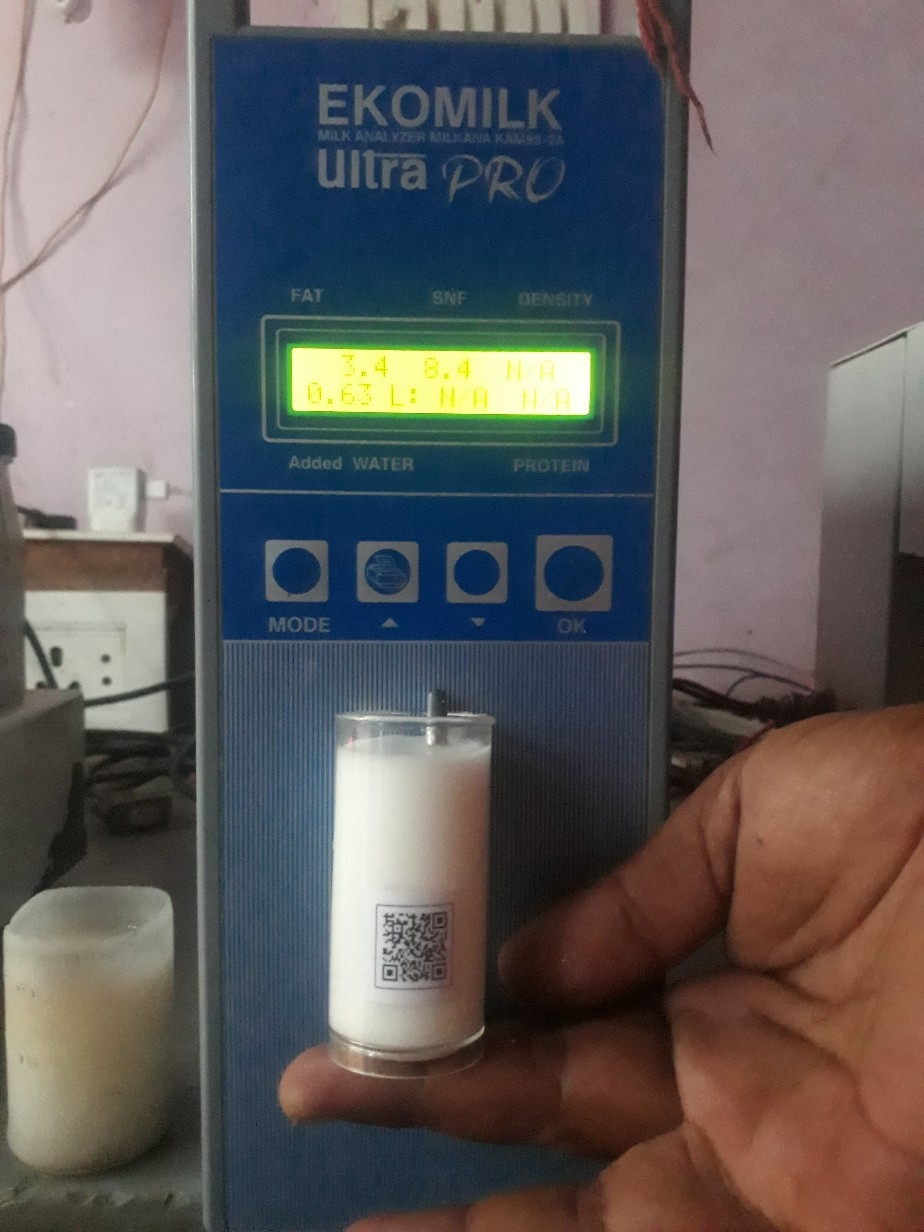lcd: (278, 340, 612, 442)
qr: (352, 904, 484, 995)
